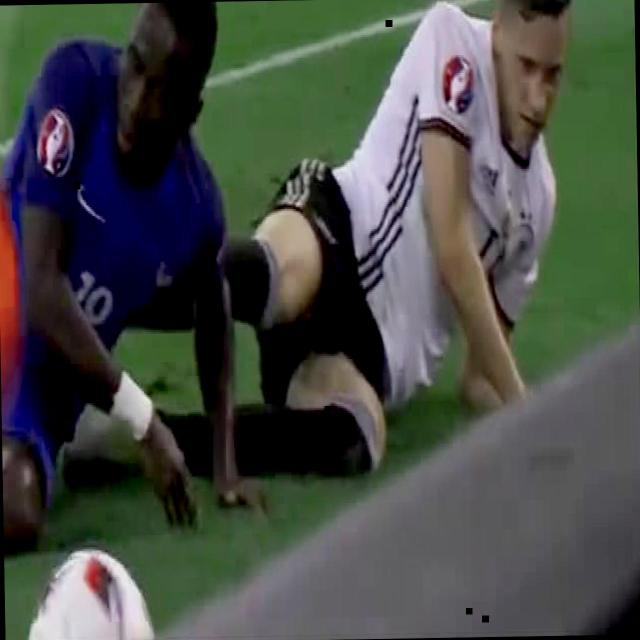player-white: (43, 0, 582, 478), (0, 1, 260, 541)
